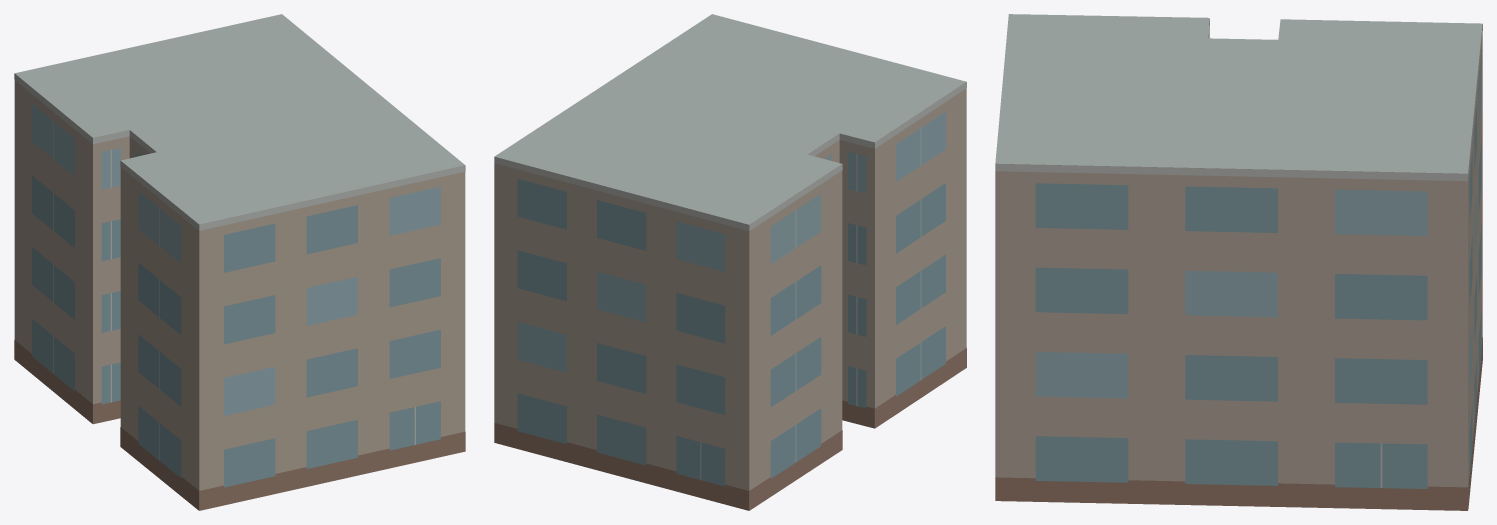
File: survey-upis-32910116.glb
The picture shows the model from 3 angles, left to right: view 1: azimuth 30°, elevation 25°; view 2: azimuth 150°, elevation 25°; view 3: azimuth 270°, elevation 25°; orthographic projection. The views are drawn at different scales.
Parts seen in each view (by area): view 1: survey-upis-32910116.tmp; view 2: survey-upis-32910116.tmp; view 3: survey-upis-32910116.tmp.
Part boxes in pixels (x1,y1,x2,y2): survey-upis-32910116.tmp: (14,14,465,510); survey-upis-32910116.tmp: (494,14,966,510); survey-upis-32910116.tmp: (995,14,1482,510).
Bounding box in the file's own units: 11.08 × 10.9 × 14.29.
